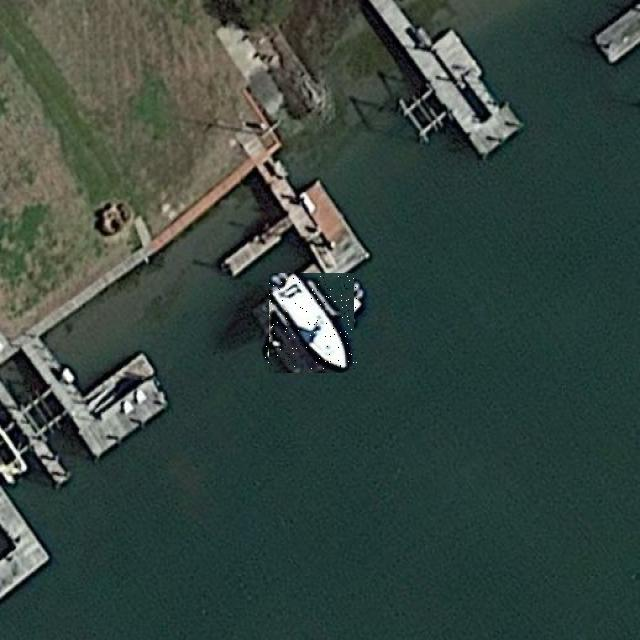boat: (265, 276, 358, 369)
